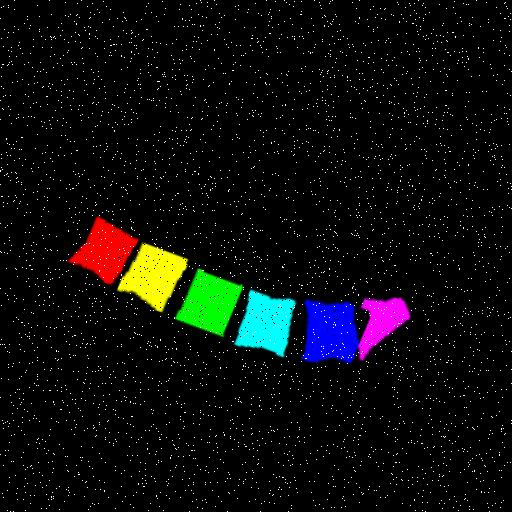L1: (75, 215, 142, 282)
L2: (124, 239, 194, 309)
L3: (181, 266, 249, 332)
L4: (243, 285, 301, 348)
L5: (311, 293, 366, 356)
S1: (368, 291, 417, 355)
